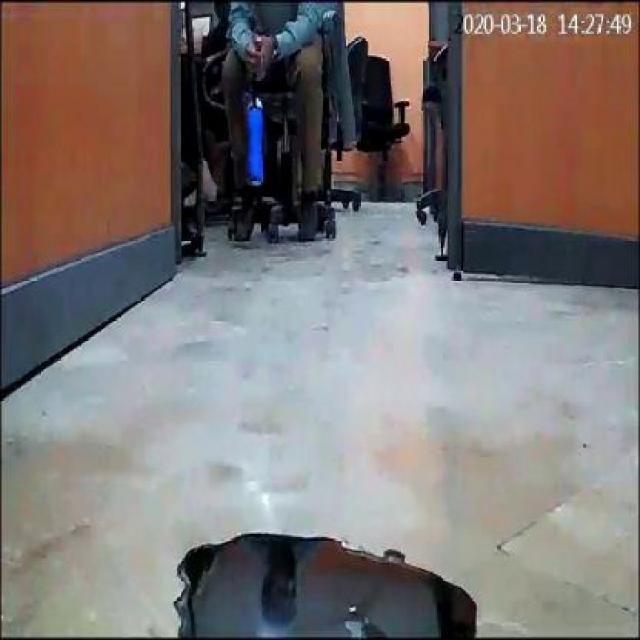spill: (170, 528, 478, 636)
